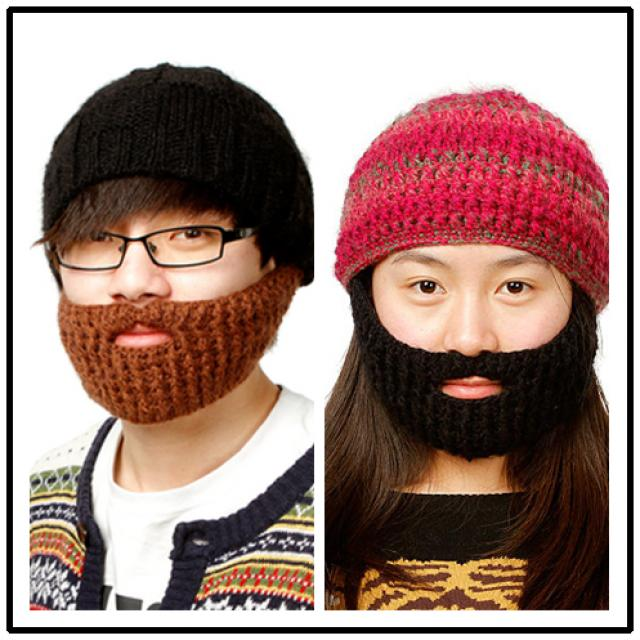mask: (59, 162, 252, 420), (375, 204, 570, 455)
